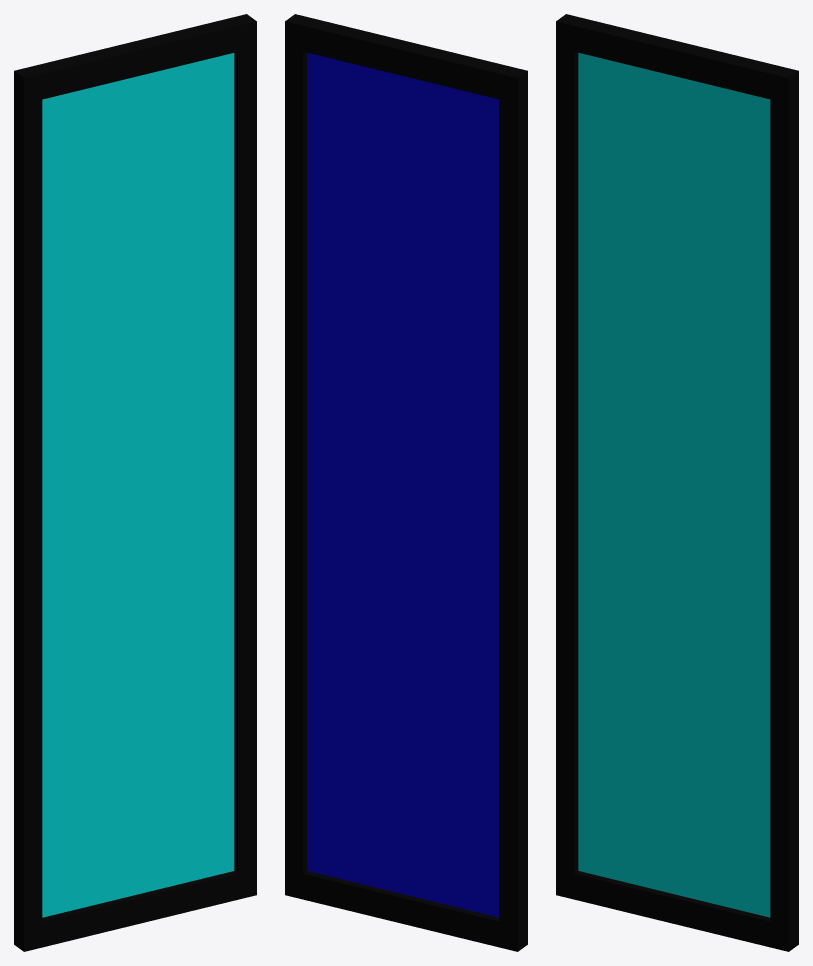
File: SM_Doorleaves_Doublesided.fbx
The picture shows the model from 3 angles, left to right: view 1: azimuth 30°, elevation 25°; view 2: azimuth 150°, elevation 25°; view 3: azimuth 330°, elevation 25°; orthographic projection.
Visible parts, largest first — view 1: leaf_left; view 2: leaf_left; view 3: leaf_left.
Boxes of the visible parts, box(x1,y1,x2,y2) form: leaf_left: box(14, 14, 256, 951); leaf_left: box(285, 14, 527, 951); leaf_left: box(556, 14, 798, 951).
Size of the model in its own units: 67.02 by 240 by 5.
